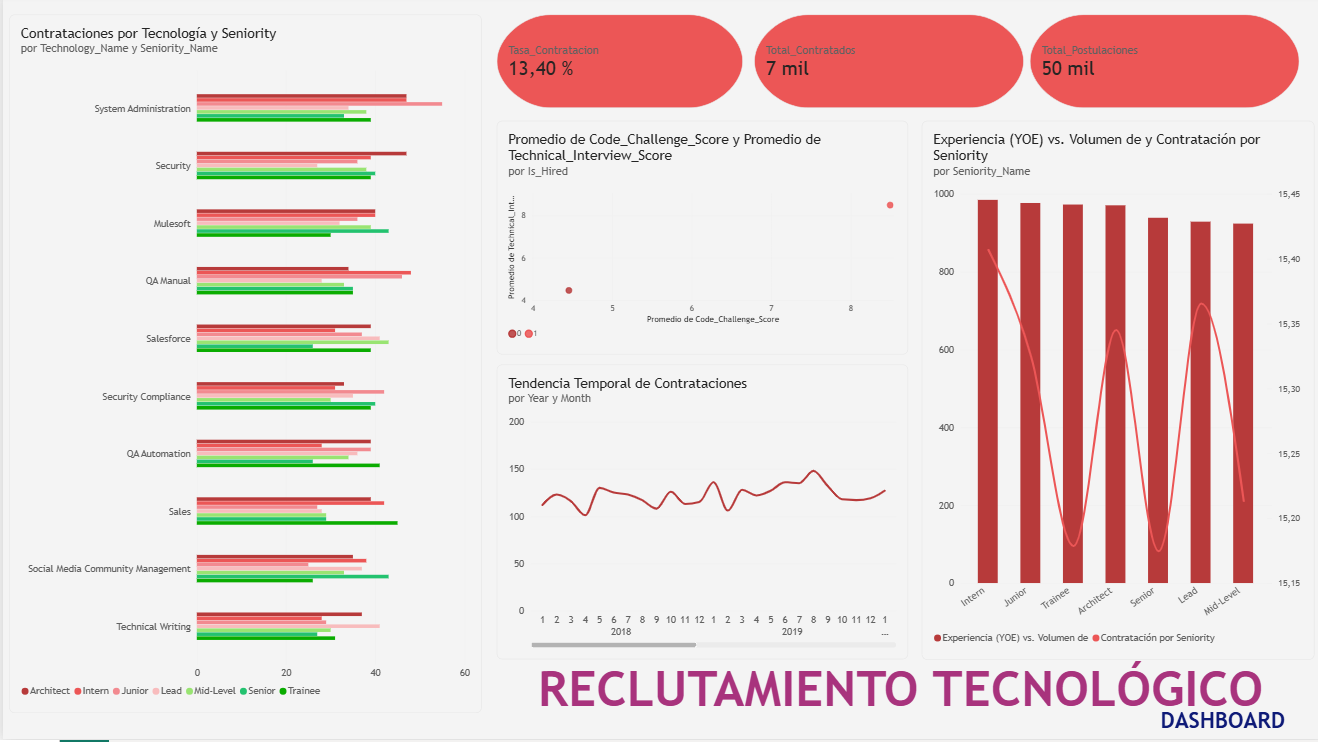

The page's visual inventory and layout, read from the dashboard file:
{"tool":"powerbi","page":{"name":"Página 1","canvas":[1920,1080],"ordinal":0},"visuals":[{"type":"lineChart","fields":{"Category":["recruitment_dw dim_tiempo.Year","recruitment_dw dim_tiempo.Month"],"Y":["Sum(recruitment_dw fact_contrataciones.Is_Hired)"]},"box":[718.2,534.5,598.2,429.1],"z":0},{"type":"clusteredBarChart","fields":{"Category":["recruitment_dw dim_tecnologia.Technology_Name"],"Series":["recruitment_dw dim_nivel.Seniority_Name"],"Y":["Sum(recruitment_dw fact_contrataciones.Is_Hired)"]},"box":[9.1,25.5,687.3,1016.4],"z":1000},{"type":"scatterChart","fields":{"Series":["recruitment_dw fact_contrataciones.Is_Hired"],"X":["Avg(recruitment_dw fact_contrataciones.Code_Challenge_Score)"],"Y":["Avg(recruitment_dw fact_contrataciones.Technical_Interview_Score)"]},"box":[718.2,180,598.2,340],"z":2000},{"type":"textbox","box":[778.2,963.6,1141.8,116.4],"z":3000},{"type":"textbox","box":[1683.6,1032.7,236.4,47.3],"z":4000},{"type":"lineClusteredColumnComboChart","fields":{"Category":["recruitment_dw dim_nivel.Seniority_Name"],"Y":["Sum(recruitment_dw fact_contrataciones.Is_Hired)"],"Y2":["Avg(recruitment_dw dim_candidato.YOE)"]},"box":[1336.4,180,570.9,783.6],"z":5000},{"type":"cardVisual","fields":{"Data":["recruitment_dw fact_contrataciones.Total_Contratados","recruitment_dw fact_contrataciones.Total_Postulaciones"]},"box":[1092.7,25.5,794.5,136.4],"z":6000},{"type":"cardVisual","fields":{"Data":["recruitment_dw fact_contrataciones.Tasa_Contratacion"]},"box":[718.2,25.5,358.2,136.4],"z":6001}]}

Visuals, with their boxes in screenshot pixels (x1, y1, x2, y2), scaled from the page's 1920x1080 canvas onto the 1318x742 screenshot:
lineChart - recruitment_dw dim_tiempo.Year x recruitment_dw dim_tiempo.Month: detection(493, 367, 904, 662)
clusteredBarChart - recruitment_dw dim_tecnologia.Technology_Name x recruitment_dw dim_nivel.Seniority_Name: detection(6, 18, 478, 716)
scatterChart - recruitment_dw fact_contrataciones.Is_Hired x Avg(recruitment_dw fact_contrataciones.Code_Challenge_Score): detection(493, 124, 904, 357)
textbox: detection(534, 662, 1317, 741)
textbox: detection(1156, 710, 1317, 741)
lineClusteredColumnComboChart - recruitment_dw dim_nivel.Seniority_Name x Sum(recruitment_dw fact_contrataciones.Is_Hired): detection(917, 124, 1309, 662)
cardVisual - recruitment_dw fact_contrataciones.Total_Contratados x recruitment_dw fact_contrataciones.Total_Postulaciones: detection(750, 18, 1295, 111)
cardVisual - recruitment_dw fact_contrataciones.Tasa_Contratacion: detection(493, 18, 739, 111)
